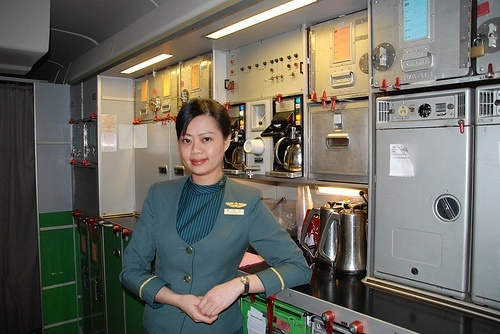head: (173, 98, 234, 178)
person: (119, 97, 308, 334)
